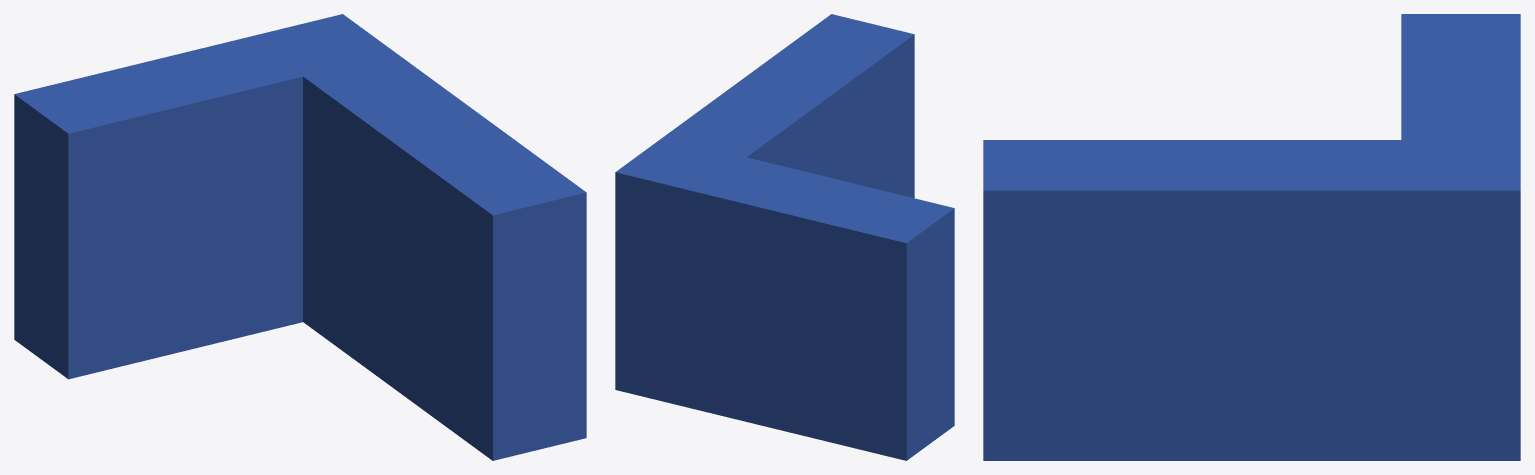
The model's file is 10x6_maze_obj_2.dae.
3 renders of one model, left to right at view 1: azimuth 30°, elevation 25°; view 2: azimuth 150°, elevation 25°; view 3: azimuth 270°, elevation 25°, orthographic. The views are drawn at different scales.
Visible parts, largest first — view 1: 5d15c62c5e8299175720e88b; view 2: 5d15c62c5e8299175720e88b; view 3: 5d15c62c5e8299175720e88b.
Part boxes in pixels (x1=…): 5d15c62c5e8299175720e88b: x1=14, y1=14, x2=586, y2=460; 5d15c62c5e8299175720e88b: x1=615, y1=14, x2=954, y2=460; 5d15c62c5e8299175720e88b: x1=983, y1=14, x2=1520, y2=460.
Bounding box in the file's own units: 3.5 × 4.5 × 2.5.
